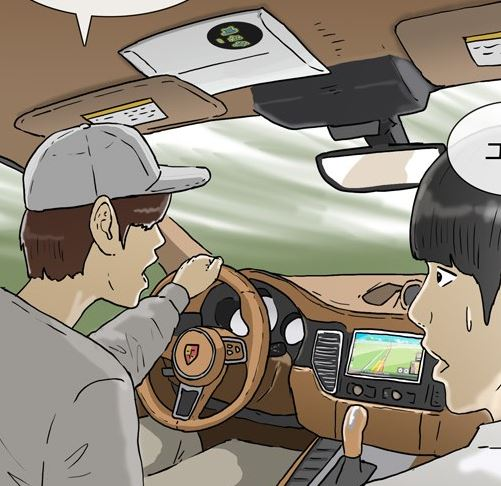hat: (14, 118, 214, 210)
